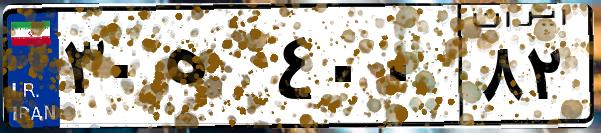0: (385, 28, 445, 110), (330, 28, 385, 110), (110, 28, 158, 98)
2: (525, 38, 570, 115)
3: (57, 26, 110, 100)
4: (270, 28, 330, 110)
8: (475, 38, 525, 113)
ه: (158, 20, 270, 120)
